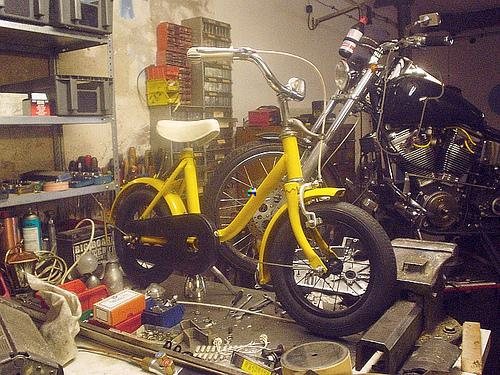bottle: (339, 17, 369, 60)
car: (103, 45, 401, 339)
motorbike: (202, 13, 500, 281)
